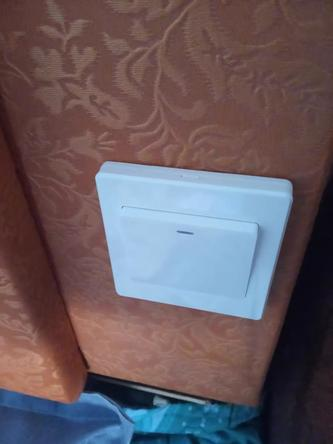switch: (111, 197, 261, 307)
